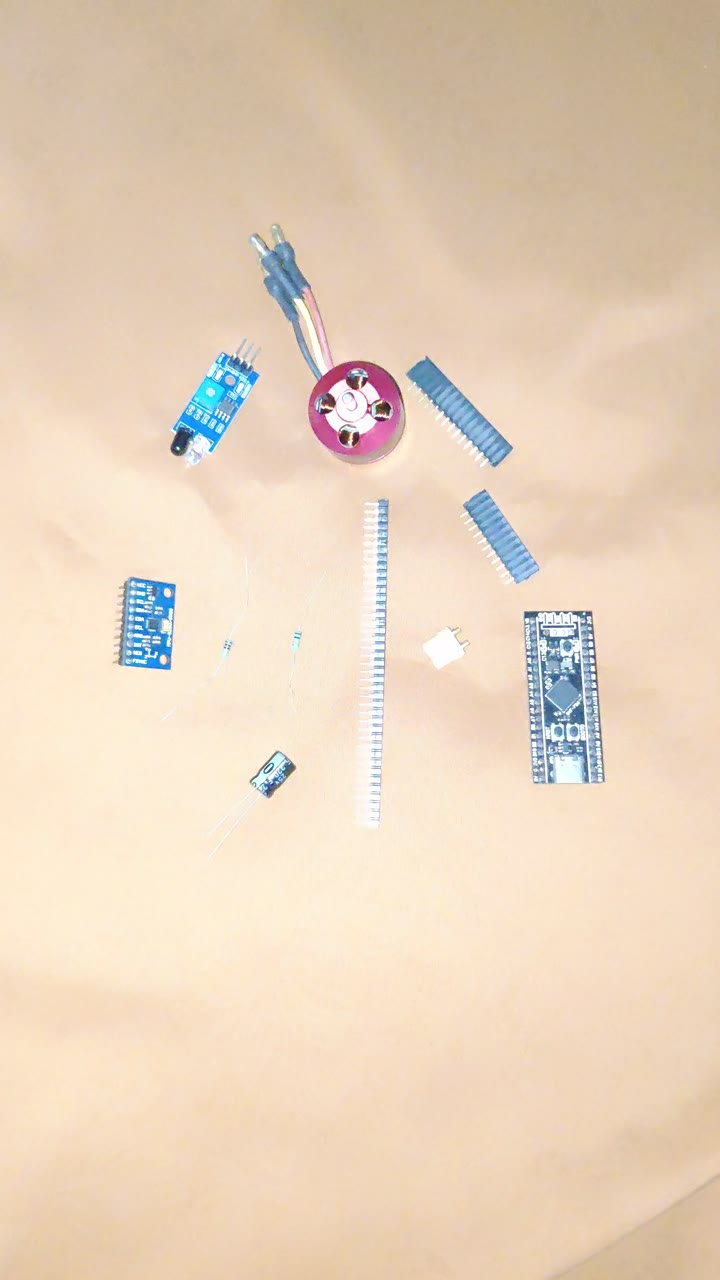bldc_motor: (229, 356, 398, 442)
elco_capacitor: (247, 749, 297, 800)
ir_sensor: (167, 349, 253, 459)
mpu6500: (110, 572, 178, 671)
pin_header: (322, 459, 406, 823), (460, 435, 534, 572), (402, 353, 494, 440)
resistor: (155, 523, 250, 724), (252, 534, 323, 722)
stm32f4: (520, 603, 603, 789)
xt30_female: (392, 579, 477, 664)
